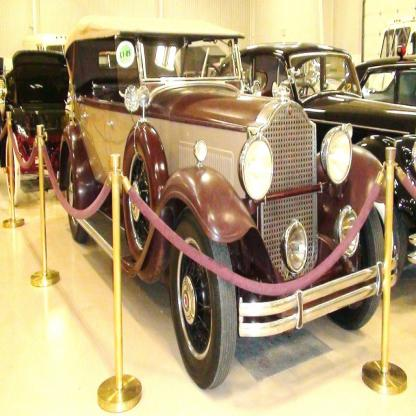Car: (1, 17, 416, 393), (214, 41, 416, 270), (1, 48, 72, 202), (336, 54, 416, 110)
